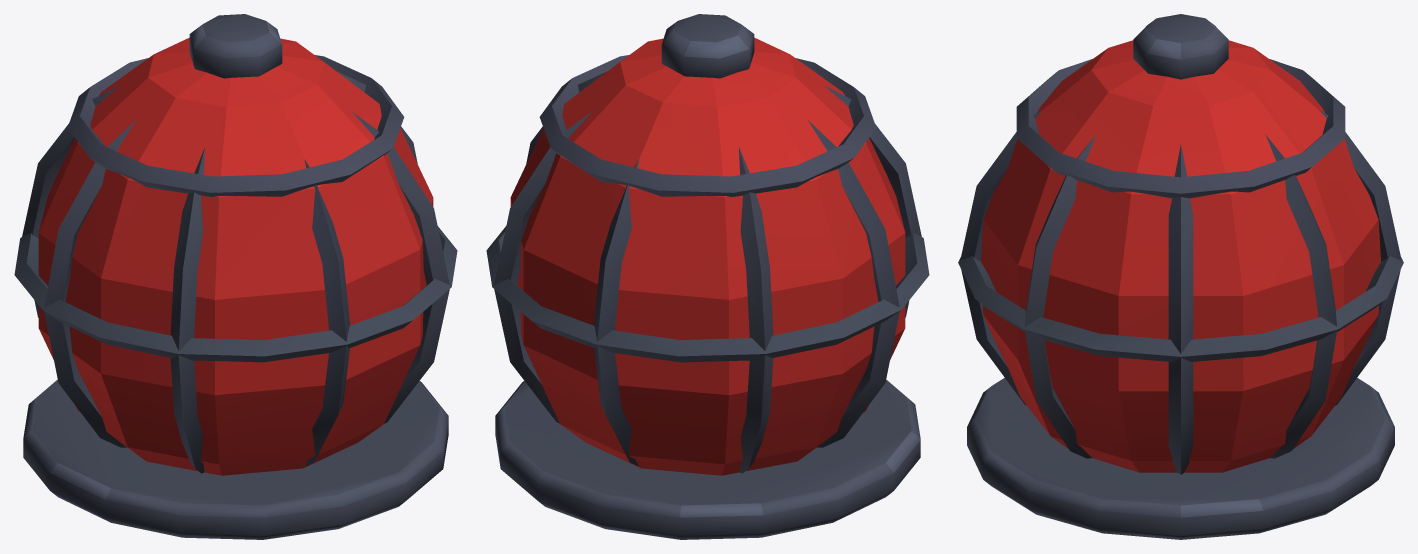
The model's file is SM_Station_EmergencyDome.fbx.
3 renders of one model, left to right at view 1: azimuth 30°, elevation 25°; view 2: azimuth 150°, elevation 25°; view 3: azimuth 270°, elevation 25°, orthographic.
Visible parts, largest first — view 1: SM_Station_EmergencyDome; view 2: SM_Station_EmergencyDome; view 3: SM_Station_EmergencyDome.
Part boxes in pixels (x1,y1,x2,y2): SM_Station_EmergencyDome: [14, 14, 457, 539]; SM_Station_EmergencyDome: [486, 14, 929, 539]; SM_Station_EmergencyDome: [958, 14, 1403, 539].
Bounding box in the file's own units: 30.27 × 33.56 × 30.27.
